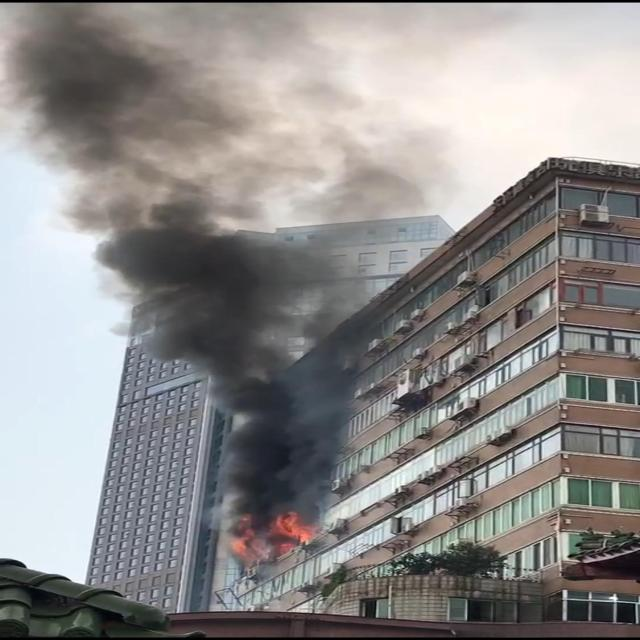Fire: (224, 514, 314, 564)
Smoke: (2, 0, 448, 521)
